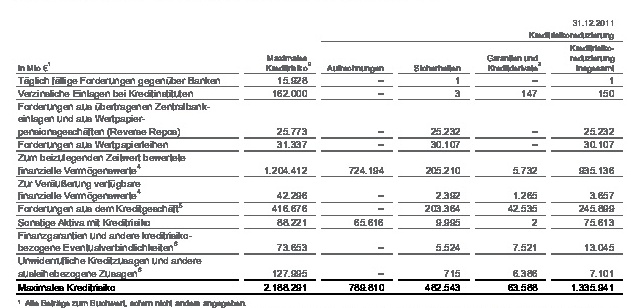table: (0, 0, 637, 308)
